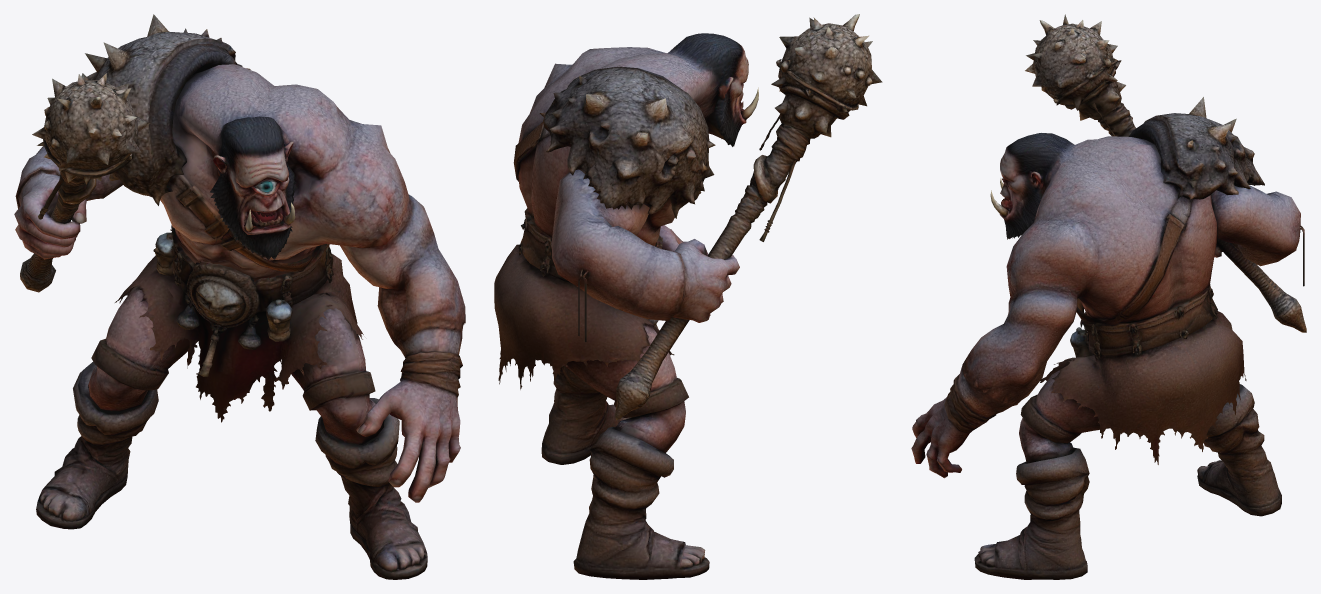
File: oneeyed_ogre.glb
3 renders of one model, left to right at view 1: azimuth 30°, elevation 25°; view 2: azimuth 150°, elevation 25°; view 3: azimuth 270°, elevation 25°, orthographic. The views are drawn at different scales.
Parts seen in each view (by area): view 1: Model_0; view 2: Model_0; view 3: Model_0.
Boxes of the visible parts, left/top/right/bottom form: Model_0: left=14, top=14, right=465, bottom=579; Model_0: left=494, top=14, right=882, bottom=579; Model_0: left=911, top=14, right=1306, bottom=579.
Bounding box in the file's own units: 0.7534 × 1 × 0.8199.
1 material, 1 textured.
